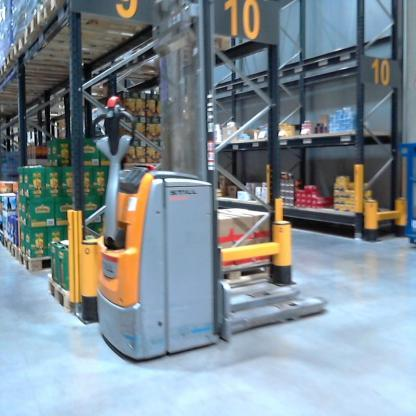pallets: (0, 0, 139, 123), (0, 225, 54, 276)
